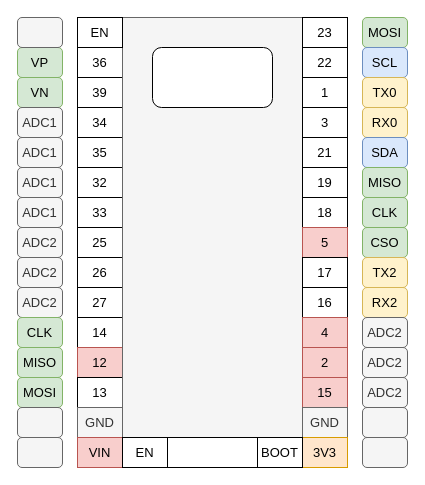
Some shapes in this 425 by 485 pixel diagram are drawn without their labels. The box of each missing label's shape, as (x1, y1, x2, y2) in pixels:
ESP32: (152, 46, 272, 108)
USB: (166, 436, 258, 468)
